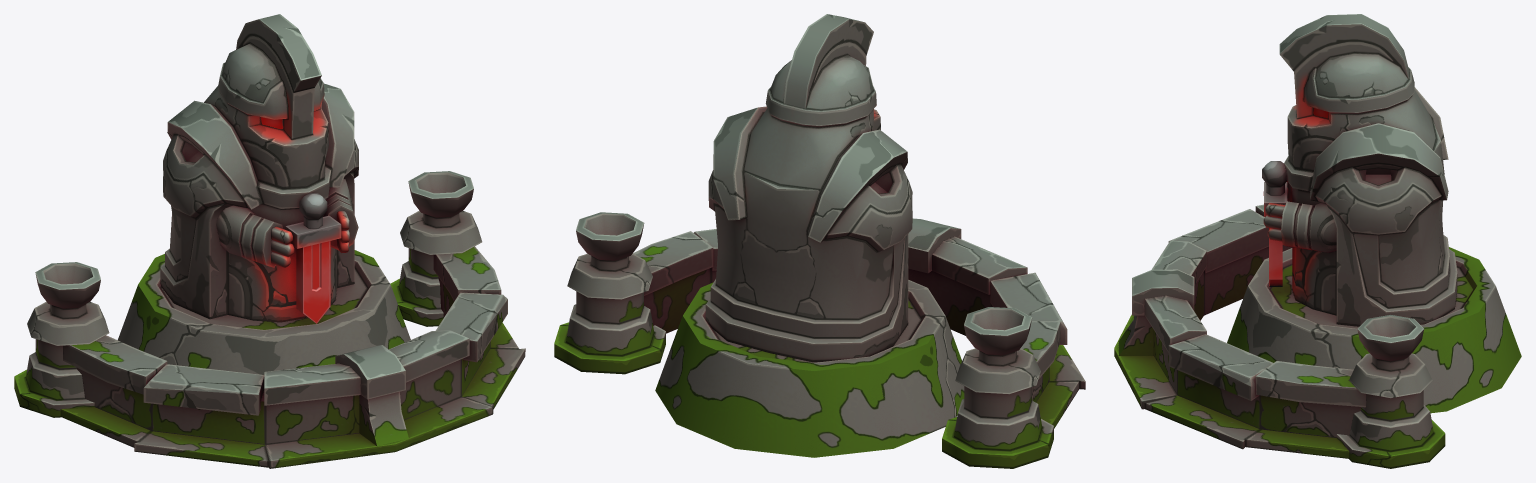
The model's file is building_10.FBX.
The picture shows the model from 3 angles, left to right: view 1: azimuth 30°, elevation 25°; view 2: azimuth 150°, elevation 25°; view 3: azimuth 270°, elevation 25°; orthographic projection. The views are drawn at different scales.
Visible parts, largest first — view 1: Cylinder004; view 2: Cylinder004; view 3: Cylinder004.
Part boxes in pixels (bbox=[...]): Cylinder004: bbox=[14, 14, 525, 468]; Cylinder004: bbox=[554, 14, 1085, 468]; Cylinder004: bbox=[1114, 14, 1521, 468].
Size of the model in its own units: 810 by 567 by 620.
